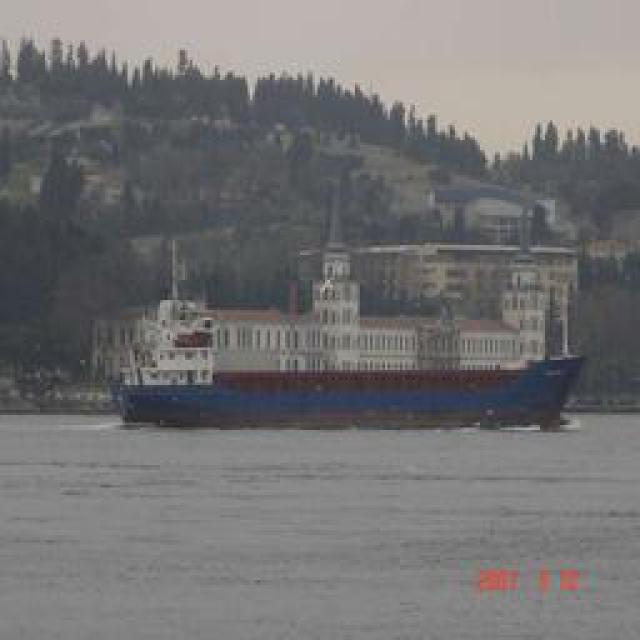Ship: (109, 299, 592, 424)
